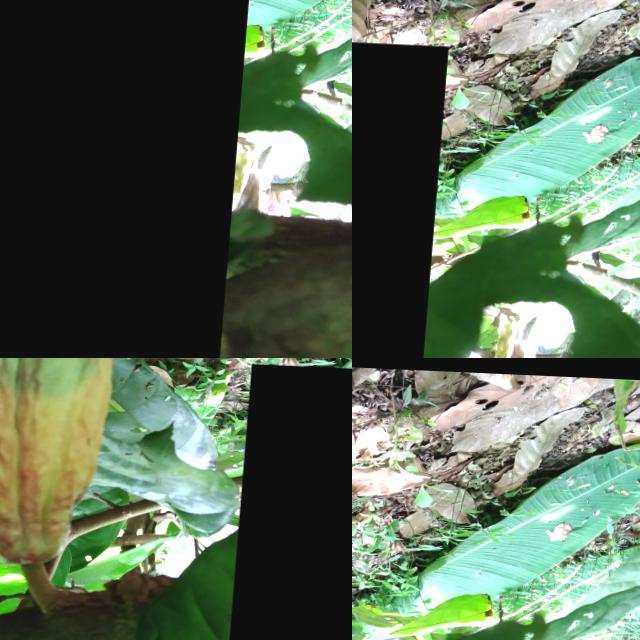Monilia: (0, 0, 255, 358)
Sana: (229, 361, 352, 640), (352, 34, 450, 358)
